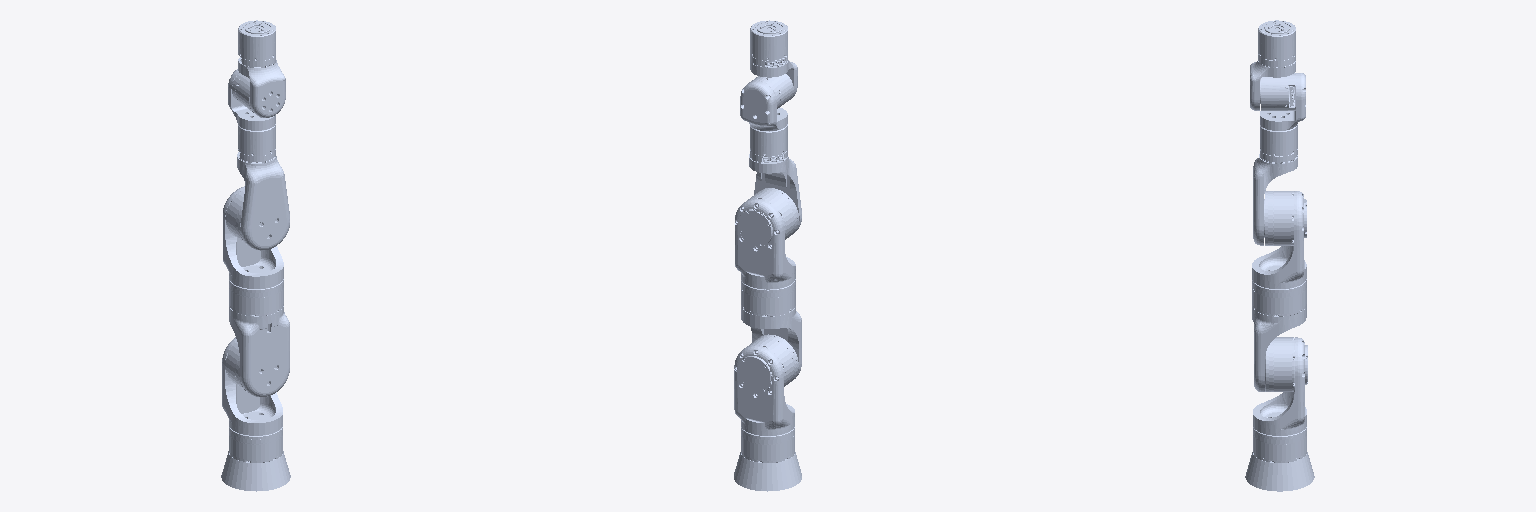
robot.urdf — 7dof-arm-urdf:
<?xml version="1.0" encoding="utf-8"?>
<!-- This URDF was automatically created by SolidWorks to URDF Exporter! Originally created by Stephen Brawner (brawner@gmail.com) 
     Commit Version: 1.6.0-4-g7f85cfe  Build Version: 1.6.7995.38578
     For more information, please see http://wiki.ros.org/sw_urdf_exporter -->
<robot
  name="7dof-arm-urdf">
  <link
    name="base">
    <inertial>
      <origin
        xyz="-3.2178E-06 -2.09E-05 0.022597"
        rpy="0 0 0" />
      <mass
        value="0.65923" />
      <inertia
        ixx="0.00043109"
        ixy="-6.9541E-07"
        ixz="-1.6137E-08"
        iyy="0.00043149"
        iyz="5.9385E-08"
        izz="0.00073419" />
    </inertial>
    <visual>
      <origin
        xyz="0 0 0"
        rpy="0 0 0" />
      <geometry>
        <mesh
          filename="package://7dof-arm-urdf/meshes/base.STL" />
      </geometry>
      <material
        name="">
        <color
          rgba="0.86667 0.9098 1 1" />
      </material>
    </visual>
    <collision>
      <origin
        xyz="0 0 0"
        rpy="0 0 0" />
      <geometry>
        <mesh
          filename="package://7dof-arm-urdf/meshes/base.STL" />
      </geometry>
    </collision>
  </link>
  <link
    name="link_1">
    <inertial>
      <origin
        xyz="-1.82377877434675E-05 0.0129944653163006 0.0441193534581318"
        rpy="0 0 0" />
      <mass
        value="0.528941854499182" />
      <inertia
        ixx="0.00066410215115421"
        ixy="-5.70888565316991E-08"
        ixz="3.09980746935561E-08"
        iyy="0.000789709987007945"
        iyz="-0.000132977482088879"
        izz="0.000460762745541137" />
    </inertial>
    <visual>
      <origin
        xyz="0 0 0"
        rpy="0 0 0" />
      <geometry>
        <mesh
          filename="package://7dof-arm-urdf/meshes/link_1.STL" />
      </geometry>
      <material
        name="">
        <color
          rgba="0.866666666666667 0.909803921568627 1 1" />
      </material>
    </visual>
    <collision>
      <origin
        xyz="0 0 0"
        rpy="0 0 0" />
      <geometry>
        <mesh
          filename="package://7dof-arm-urdf/meshes/link_1.STL" />
      </geometry>
    </collision>
  </link>
  <joint
    name="joint_1"
    type="revolute">
    <origin
      xyz="0 0 0.0885"
      rpy="0 0 0" />
    <parent
      link="base" />
    <child
      link="link_1" />
    <axis
      xyz="0 0 -1" />
    <limit
      lower="0"
      upper="0"
      effort="0"
      velocity="0" />
  </joint>
  <link
    name="link_2">
    <inertial>
      <origin
        xyz="-2.14043772963508E-05 0.0101239896926122 0.0576082322300047"
        rpy="0 0 0" />
      <mass
        value="0.538245095735732" />
      <inertia
        ixx="0.000778571477215432"
        ixy="3.34854223904746E-07"
        ixz="3.45696372513002E-08"
        iyy="0.00088159538647754"
        iyz="-0.000150430754908417"
        izz="0.000477824790628372" />
    </inertial>
    <visual>
      <origin
        xyz="0 0 0"
        rpy="0 0 0" />
      <geometry>
        <mesh
          filename="package://7dof-arm-urdf/meshes/link_2.STL" />
      </geometry>
      <material
        name="">
        <color
          rgba="0.866666666666667 0.909803921568627 1 1" />
      </material>
    </visual>
    <collision>
      <origin
        xyz="0 0 0"
        rpy="0 0 0" />
      <geometry>
        <mesh
          filename="package://7dof-arm-urdf/meshes/link_2.STL" />
      </geometry>
    </collision>
  </link>
  <joint
    name="joint_2"
    type="revolute">
    <origin
      xyz="0 -0.02725 0.09"
      rpy="0 0 0" />
    <parent
      link="link_1" />
    <child
      link="link_2" />
    <axis
      xyz="0 1 0" />
    <limit
      lower="0"
      upper="0"
      effort="0"
      velocity="0" />
  </joint>
  <link
    name="link_3">
    <inertial>
      <origin
        xyz="1.1841E-05 0.012994 0.044124"
        rpy="0 0 0" />
      <mass
        value="0.52894" />
      <inertia
        ixx="0.00066279"
        ixy="4.3804E-09"
        ixz="-4.2662E-07"
        iyy="0.00078971"
        iyz="-0.00013294"
        izz="0.00046208" />
    </inertial>
    <visual>
      <origin
        xyz="0 0 0"
        rpy="0 0 0" />
      <geometry>
        <mesh
          filename="package://7dof-arm-urdf/meshes/link_3.STL" />
      </geometry>
      <material
        name="">
        <color
          rgba="0.86667 0.9098 1 1" />
      </material>
    </visual>
    <collision>
      <origin
        xyz="0 0 0"
        rpy="0 0 0" />
      <geometry>
        <mesh
          filename="package://7dof-arm-urdf/meshes/link_3.STL" />
      </geometry>
    </collision>
  </link>
  <joint
    name="joint_3"
    type="revolute">
    <origin
      xyz="0 0.02625 0.1435"
      rpy="0 0 0" />
    <parent
      link="link_2" />
    <child
      link="link_3" />
    <axis
      xyz="0 0 -1" />
    <limit
      lower="0"
      upper="0"
      effort="0"
      velocity="0" />
  </joint>
  <link
    name="link_4">
    <inertial>
      <origin
        xyz="5.87451432146151E-06 0.00598852027395125 0.048100513169153"
        rpy="0 0 0" />
      <mass
        value="0.431336805680094" />
      <inertia
        ixx="0.000780605285635534"
        ixy="-4.11101203256496E-08"
        ixz="1.71865537987226E-09"
        iyy="0.000828887847207372"
        iyz="-0.000156167772319584"
        izz="0.00023540917706142" />
    </inertial>
    <visual>
      <origin
        xyz="0 0 0"
        rpy="0 0 0" />
      <geometry>
        <mesh
          filename="package://7dof-arm-urdf/meshes/link_4.STL" />
      </geometry>
      <material
        name="">
        <color
          rgba="0.866666666666667 0.909803921568627 1 1" />
      </material>
    </visual>
    <collision>
      <origin
        xyz="0 0 0"
        rpy="0 0 0" />
      <geometry>
        <mesh
          filename="package://7dof-arm-urdf/meshes/link_4.STL" />
      </geometry>
    </collision>
  </link>
  <joint
    name="joint_4"
    type="revolute">
    <origin
      xyz="0 -0.02725 0.09"
      rpy="0 0 0" />
    <parent
      link="link_3" />
    <child
      link="link_4" />
    <axis
      xyz="0 1 0" />
    <limit
      lower="0"
      upper="0"
      effort="0"
      velocity="0" />
  </joint>
  <link
    name="link_5">
    <inertial>
      <origin
        xyz="-1.53532717265699E-05 0.0185980181543087 0.0270381584984817"
        rpy="0 0 0" />
      <mass
        value="0.220387588026433" />
      <inertia
        ixx="0.000176236268492183"
        ixy="-2.6848760800225E-10"
        ixz="8.1094679889727E-09"
        iyy="0.000148241497419061"
        iyz="-5.68506485393308E-05"
        izz="0.000118201524453919" />
    </inertial>
    <visual>
      <origin
        xyz="0 0 0"
        rpy="0 0 0" />
      <geometry>
        <mesh
          filename="package://7dof-arm-urdf/meshes/link_5.STL" />
      </geometry>
      <material
        name="">
        <color
          rgba="0.866666666666667 0.909803921568627 1 1" />
      </material>
    </visual>
    <collision>
      <origin
        xyz="0 0 0"
        rpy="0 0 0" />
      <geometry>
        <mesh
          filename="package://7dof-arm-urdf/meshes/link_5.STL" />
      </geometry>
    </collision>
  </link>
  <joint
    name="joint_5"
    type="revolute">
    <origin
      xyz="0 0.02625 0.15155"
      rpy="0 0 0" />
    <parent
      link="link_4" />
    <child
      link="link_5" />
    <axis
      xyz="0 0 -1" />
    <limit
      lower="0"
      upper="0"
      effort="0"
      velocity="0" />
  </joint>
  <link
    name="link_6">
    <inertial>
      <origin
        xyz="1.27403873606402E-05 0.00685589014778281 0.023979883685738"
        rpy="0 0 0" />
      <mass
        value="0.21900757450898" />
      <inertia
        ixx="0.000173087451655469"
        ixy="-3.91528920845921E-08"
        ixz="7.73738263444336E-11"
        iyy="0.000145976238595278"
        iyz="-5.58546260893938E-05"
        izz="0.000117016605809947" />
    </inertial>
    <visual>
      <origin
        xyz="0 0 0"
        rpy="0 0 0" />
      <geometry>
        <mesh
          filename="package://7dof-arm-urdf/meshes/link_6.STL" />
      </geometry>
      <material
        name="">
        <color
          rgba="0.866666666666667 0.909803921568627 1 1" />
      </material>
    </visual>
    <collision>
      <origin
        xyz="0 0 0"
        rpy="0 0 0" />
      <geometry>
        <mesh
          filename="package://7dof-arm-urdf/meshes/link_6.STL" />
      </geometry>
    </collision>
  </link>
  <joint
    name="joint_6"
    type="revolute">
    <origin
      xyz="0 -0.027 0.05"
      rpy="0 0 0" />
    <parent
      link="link_5" />
    <child
      link="link_6" />
    <axis
      xyz="0 1 0" />
    <limit
      lower="0"
      upper="0"
      effort="0"
      velocity="0" />
  </joint>
  <link
    name="link_7">
    <inertial>
      <origin
        xyz="-4.8335E-06 0.0018221 -0.43596"
        rpy="0 0 0" />
      <mass
        value="3.1261" />
      <inertia
        ixx="0.12914"
        ixy="-4.9793E-07"
        ixz="-3.3356E-06"
        iyy="0.12865"
        iyz="0.0017053"
        izz="0.00345" />
    </inertial>
    <visual>
      <origin
        xyz="0 0 0"
        rpy="0 0 0" />
      <geometry>
        <mesh
          filename="package://7dof-arm-urdf/meshes/link_7.STL" />
      </geometry>
      <material
        name="">
        <color
          rgba="1 1 1 1" />
      </material>
    </visual>
    <collision>
      <origin
        xyz="0 0 0"
        rpy="0 0 0" />
      <geometry>
        <mesh
          filename="package://7dof-arm-urdf/meshes/link_7.STL" />
      </geometry>
    </collision>
  </link>
  <joint
    name="joint_7"
    type="revolute">
    <origin
      xyz="0 0.025 0.102"
      rpy="0 0 0" />
    <parent
      link="link_6" />
    <child
      link="link_7" />
    <axis
      xyz="0 0 -1" />
    <limit
      lower="0"
      upper="0"
      effort="0"
      velocity="0" />
  </joint>
</robot>

--- Facts derived from the render (not from the file) ---
Views: 3 orthographic renders of the robot side by side, from view 1: azimuth 30°, elevation 25°; view 2: azimuth 150°, elevation 25°; view 3: azimuth 270°, elevation 25°.
Model 7dof-arm-urdf with 8 links and 7 joints (7 revolute), rooted at base, posed all joints at 0.
Visible links, largest first — view 1: link_2, link_4, link_6, base, link_3, link_1, link_5; view 2: link_1, link_3, base, link_2, link_4, link_5, link_6; view 3: link_3, link_1, base, link_2, link_4, link_6, link_5.
Link boxes in pixels (x1,y1,x2,y2): link_2: (229,279,289,396); link_4: (237,124,289,250); link_6: (238,20,285,117); base: (221,427,290,491); link_3: (223,186,283,288); link_1: (222,337,282,435); link_5: (228,69,275,130); link_1: (734,334,798,435); link_3: (735,188,798,289); base: (734,427,801,491); link_2: (741,279,801,378); link_4: (749,124,801,231); link_5: (740,74,793,130); link_6: (750,20,797,99); link_3: (1252,191,1306,288); link_1: (1253,337,1307,435); base: (1245,427,1314,491); link_2: (1252,279,1306,391); link_4: (1253,124,1297,245); link_6: (1250,20,1295,110); link_5: (1260,73,1305,130).
Size in the robot's own frame: 0.0997 by 0.1 by 0.7175 metres.
Meshes: 8 distinct files referenced, 7 mesh visuals loaded (7 binary STL); not drawn: 1 (file found but could not be loaded).
